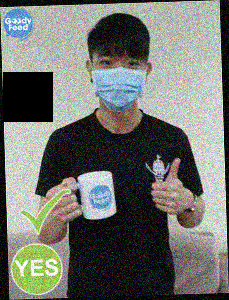with_mask: (91, 53, 146, 115)
